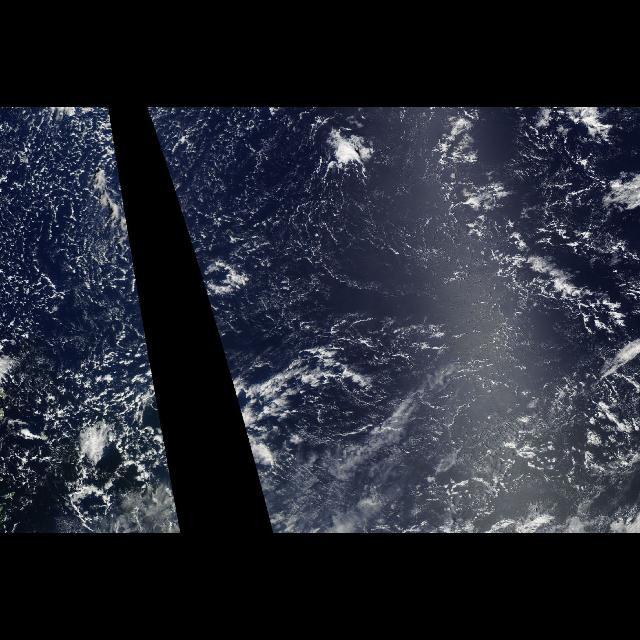Fish: (412, 114, 634, 342)
Gravel: (2, 109, 158, 523), (146, 109, 326, 375)
Sugar: (145, 107, 488, 370), (0, 107, 152, 345)
